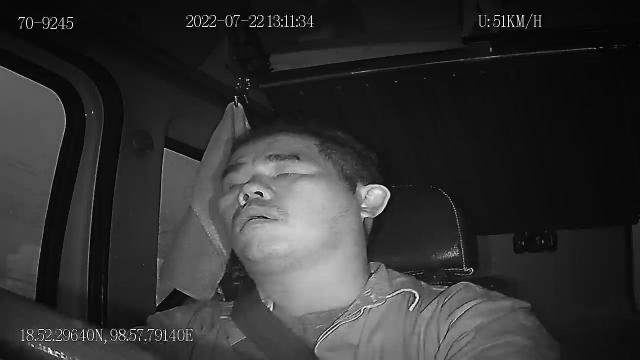Seatbelt: (228, 280, 324, 360)
